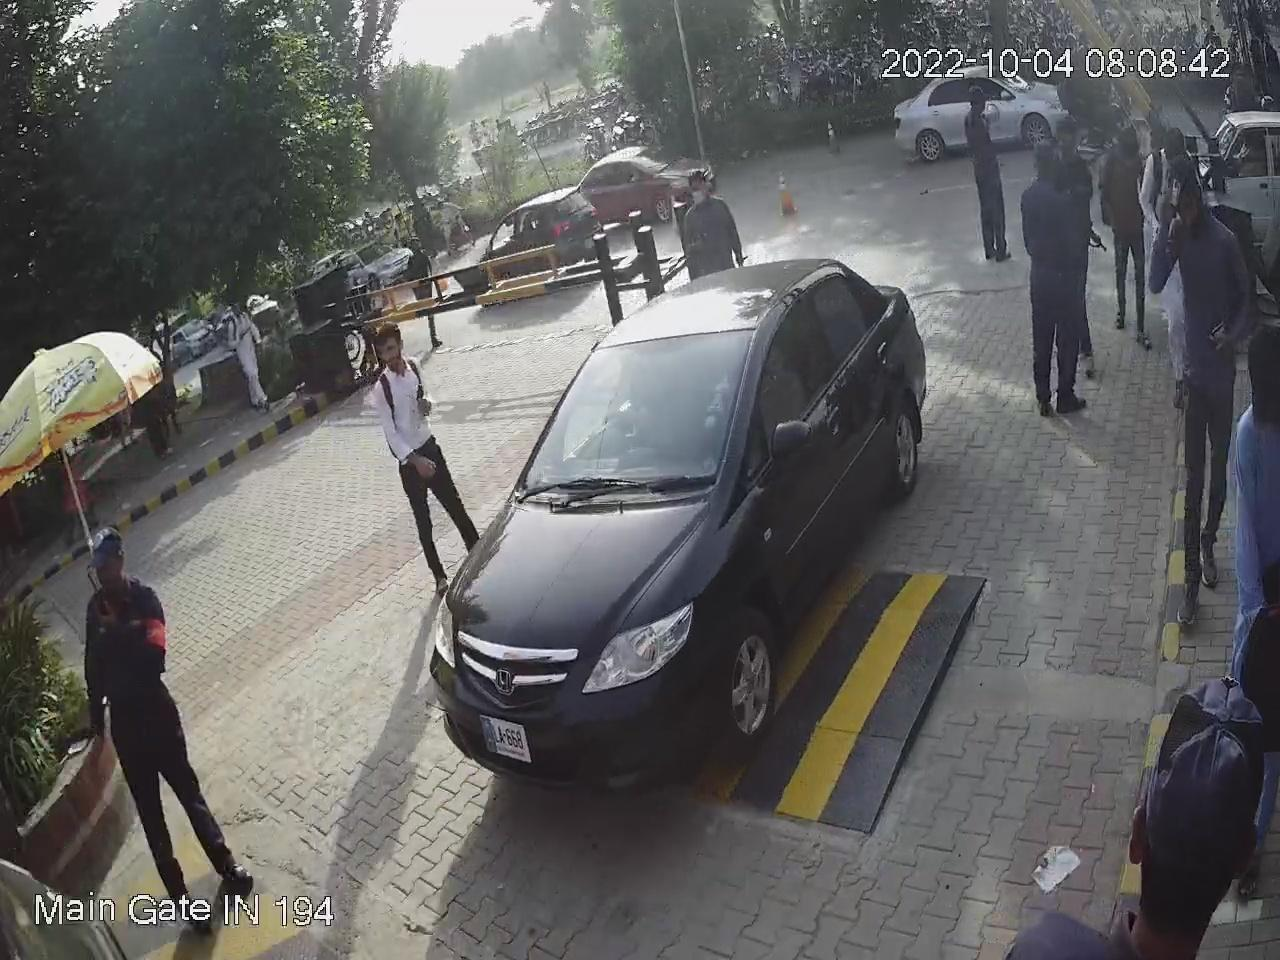windshield: (513, 318, 761, 510)
